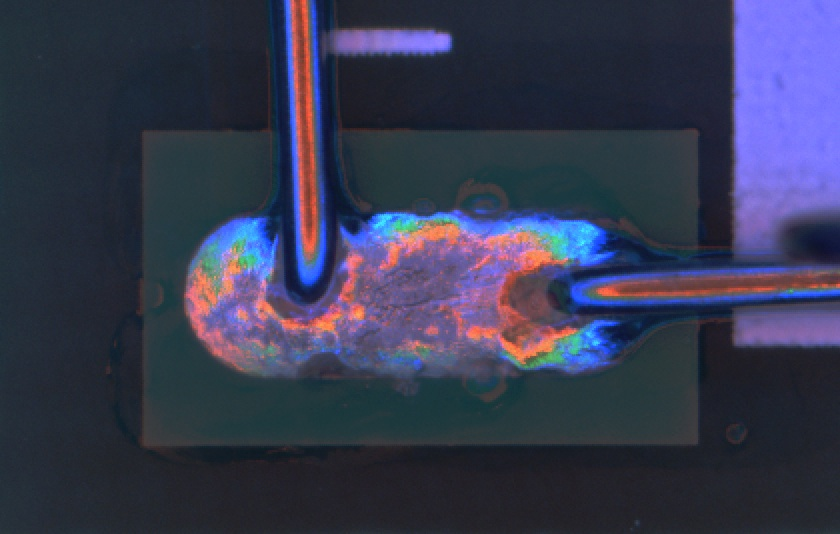spring: (539, 246, 840, 323), (268, 1, 337, 321)
spring_pin: (182, 214, 641, 375)
